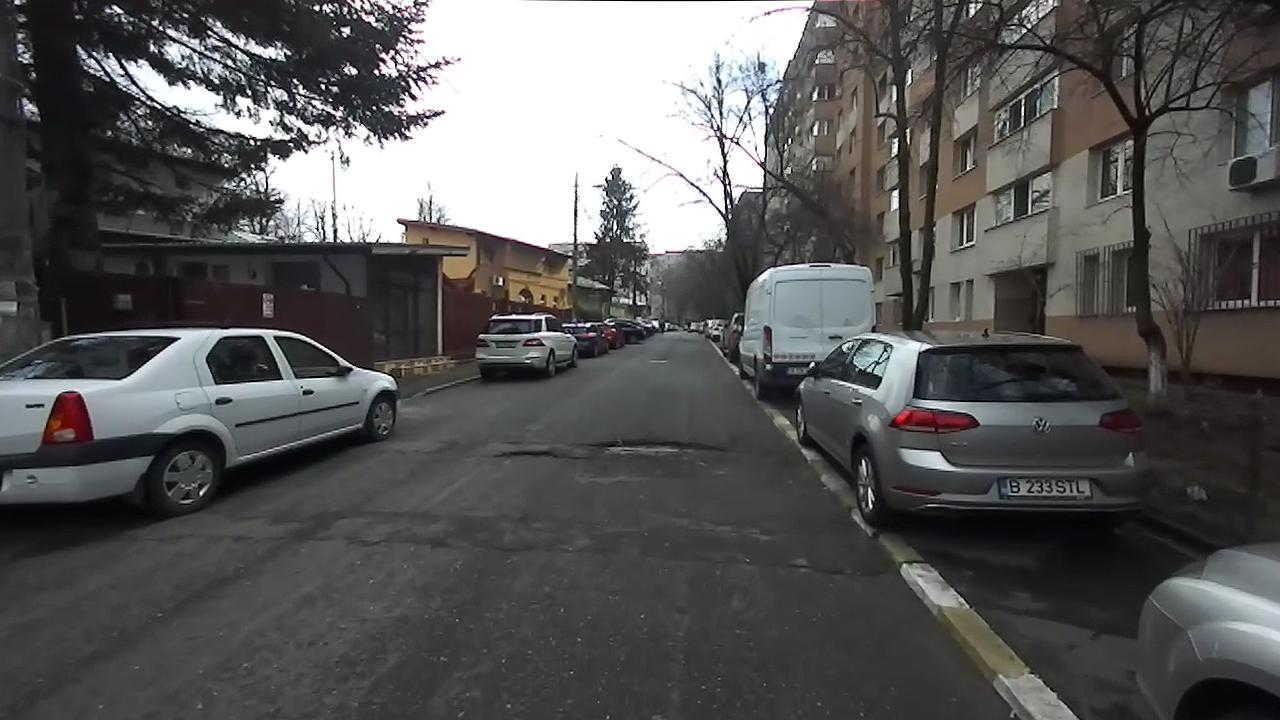pothole: (589, 437, 729, 460), (779, 560, 886, 587), (492, 447, 569, 461)
